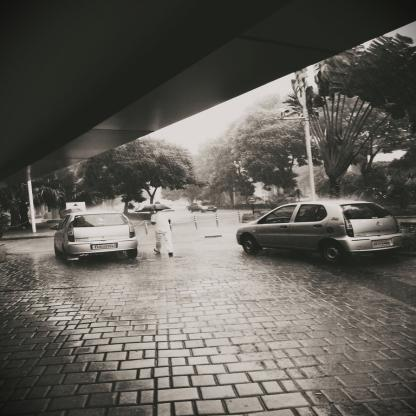Car: (235, 200, 406, 267), (54, 210, 137, 264), (188, 200, 221, 215)
